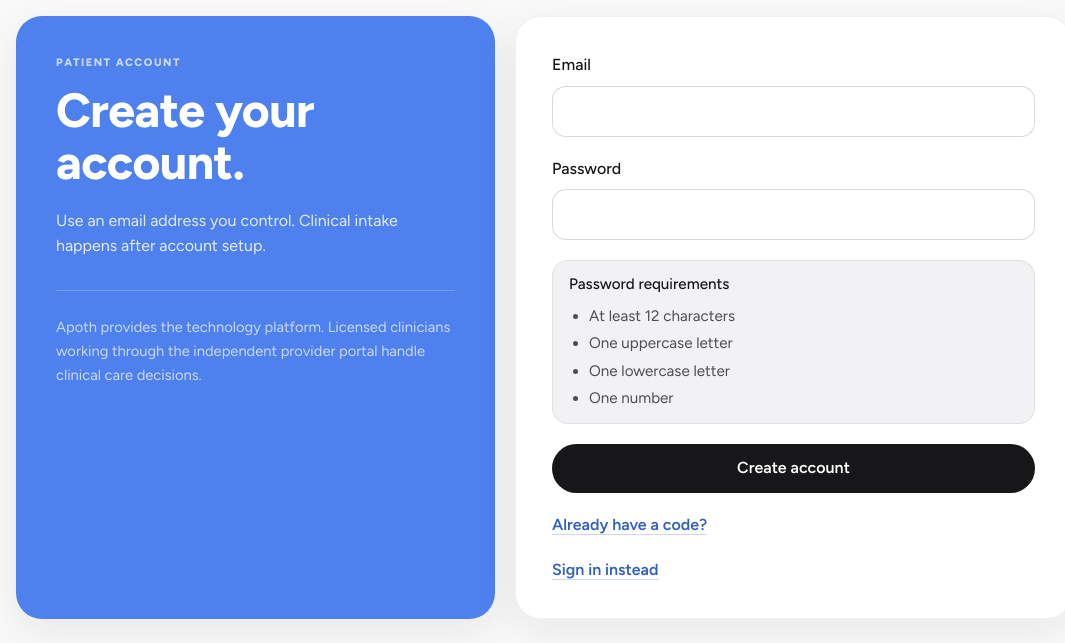
Scenario: AuthPanel › resends the verification code from the verification step
Type "patient@example.com" into the field labelled "Email".
click(794, 111); type("patient@example.com")  # box x1=552 y1=86 x2=1035 y2=137
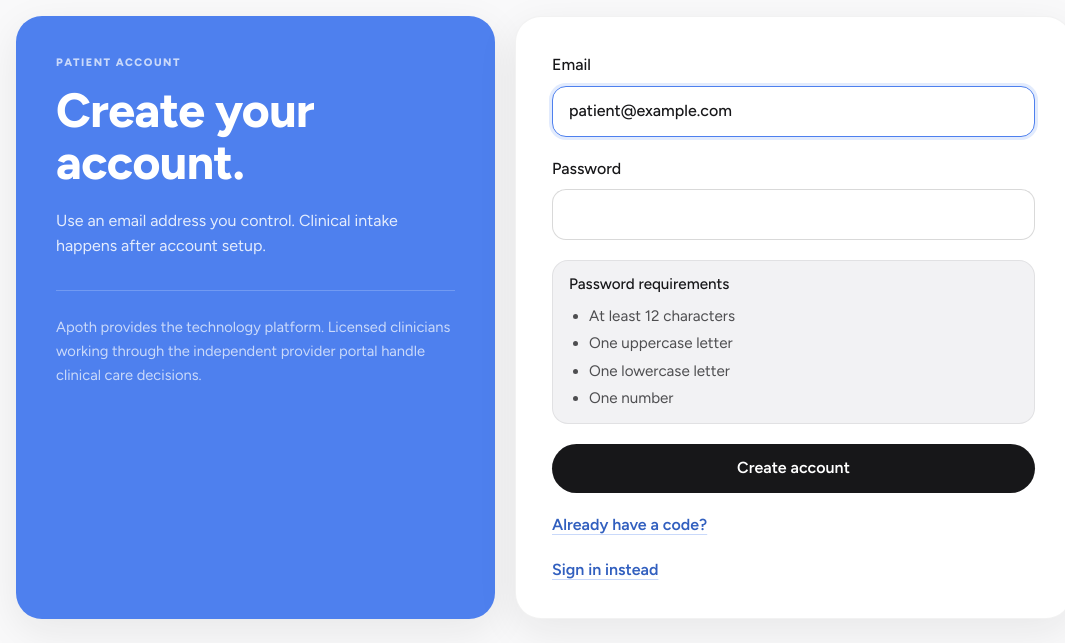
Type "Password12345" into the password field labelled "Password".
click(794, 215); type("Password12345")  # box x1=552 y1=189 x2=1035 y2=240
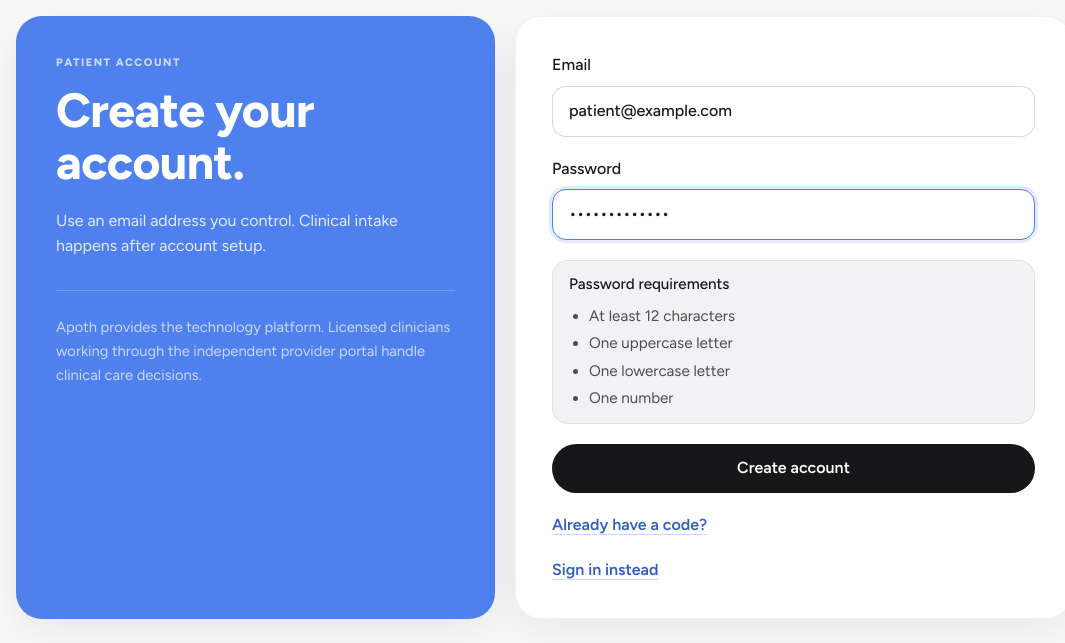
Click the button "Create account".
click(794, 468)  # box x1=552 y1=444 x2=1035 y2=493
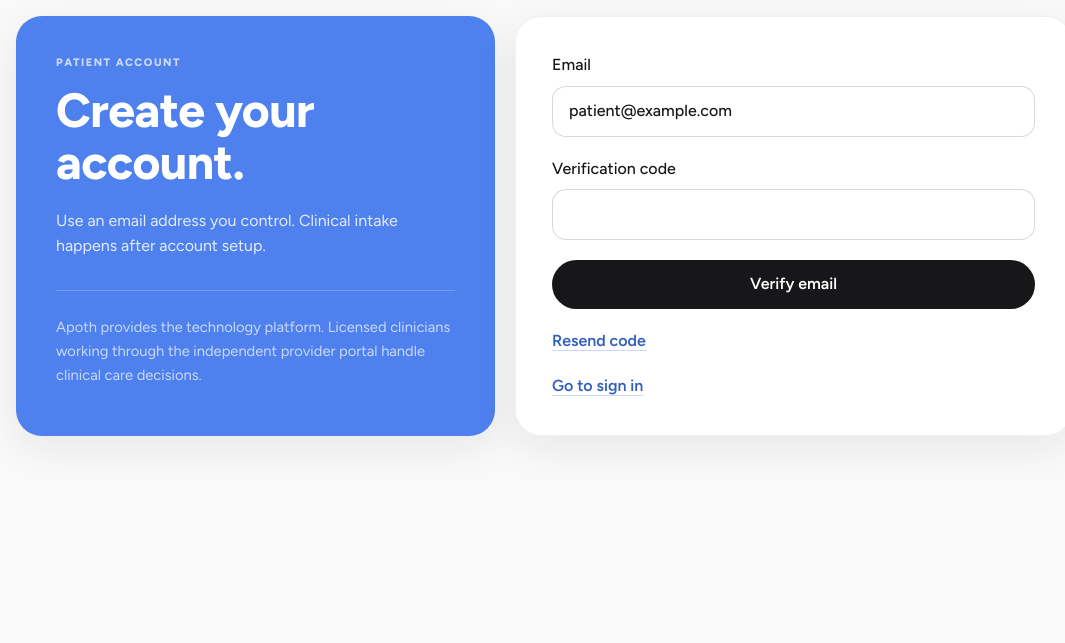
Click the button "Resend code".
click(599, 341)  # box x1=552 y1=329 x2=646 y2=354
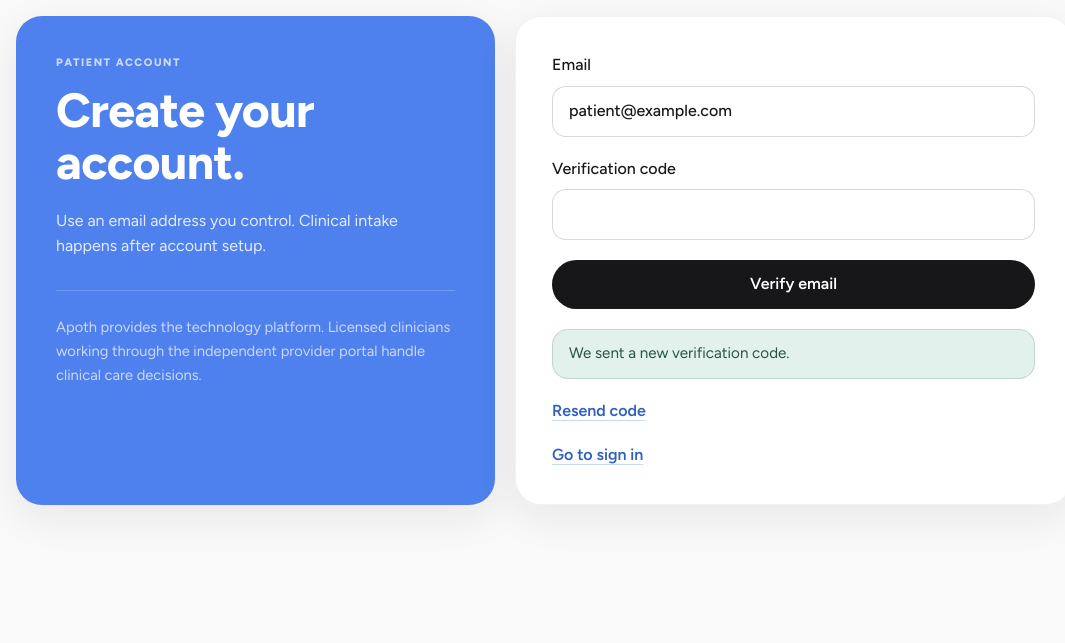
Now the message reads "We sent a new verification code.", box x1=569 y1=344 x2=790 y2=362
